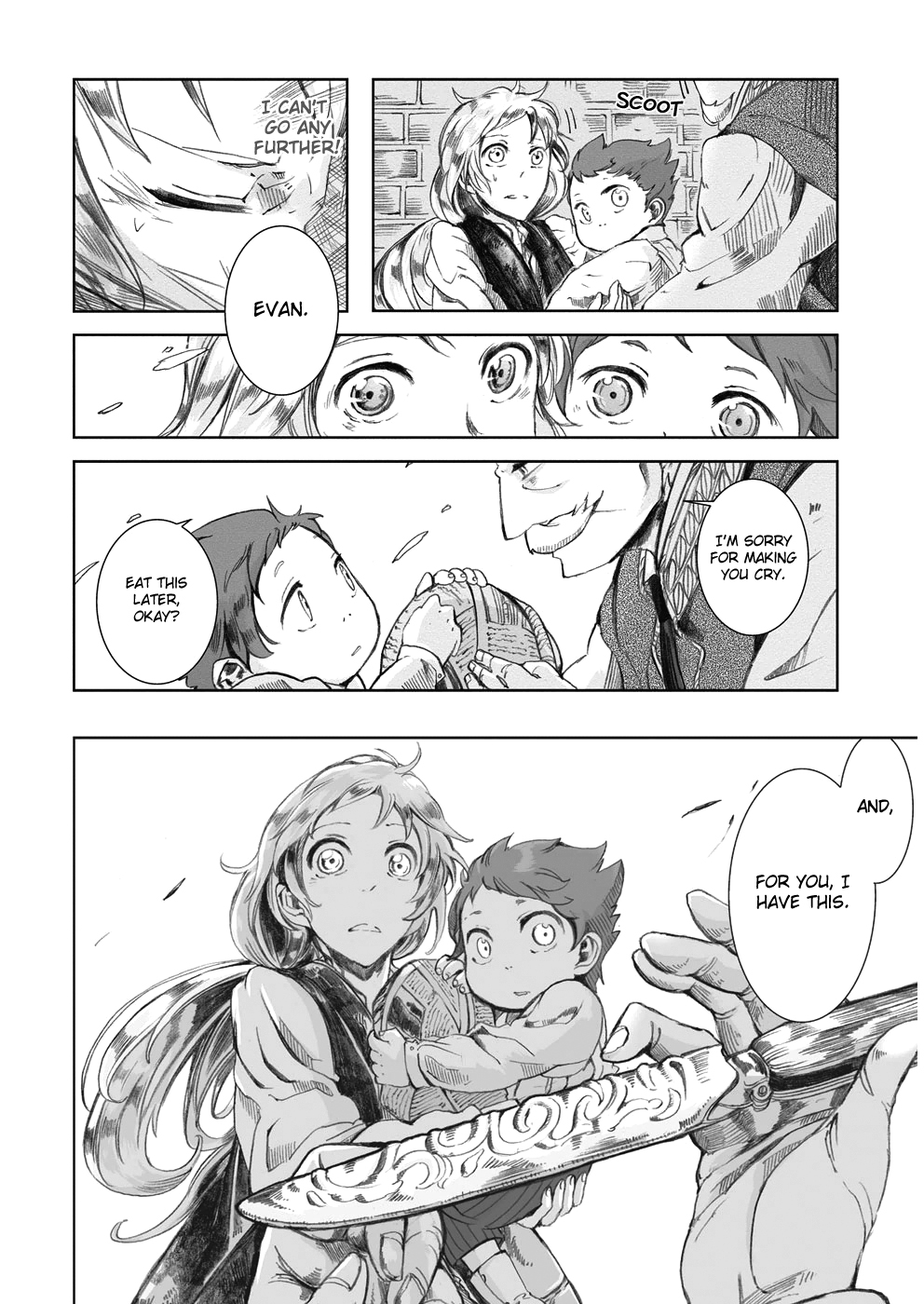bubble: (727, 769, 876, 1025), (97, 519, 219, 686), (685, 477, 810, 637), (224, 226, 340, 397), (840, 737, 914, 884)
